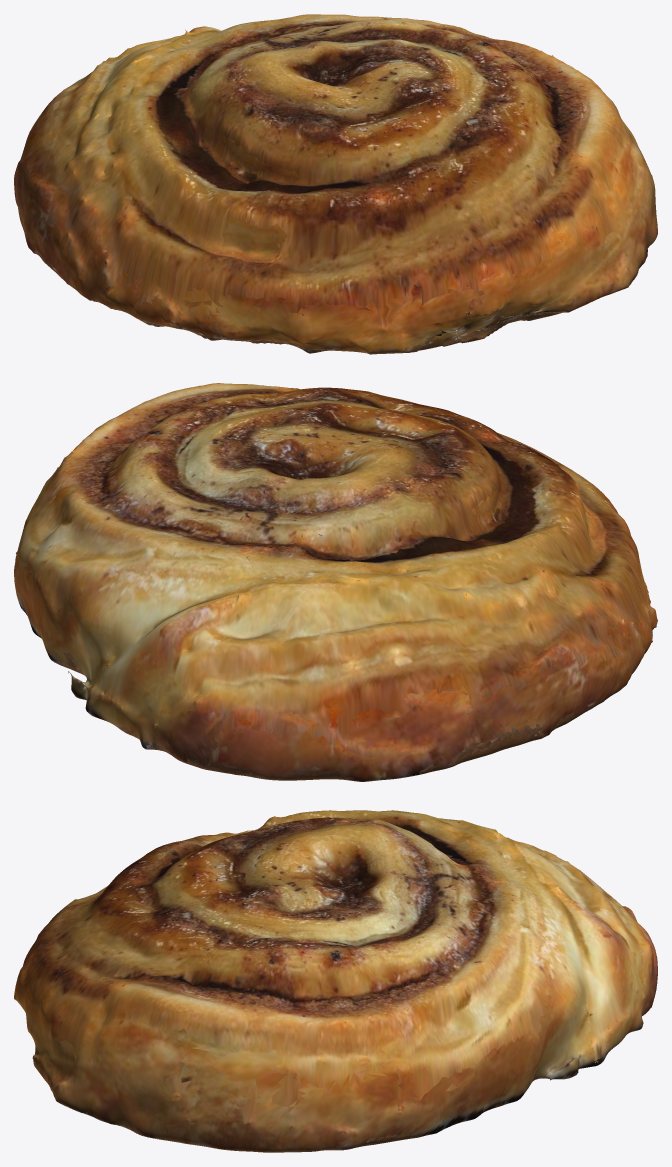
File: cinnamon_39246.obj
3 renders of one model, top to bottom at view 1: azimuth 30°, elevation 25°; view 2: azimuth 150°, elevation 25°; view 3: azimuth 270°, elevation 25°, orthographic. The views are drawn at different scales.
Size of the model in its own units: 111 by 34.02 by 115.
Materials: 1 (1 with a texture image).
